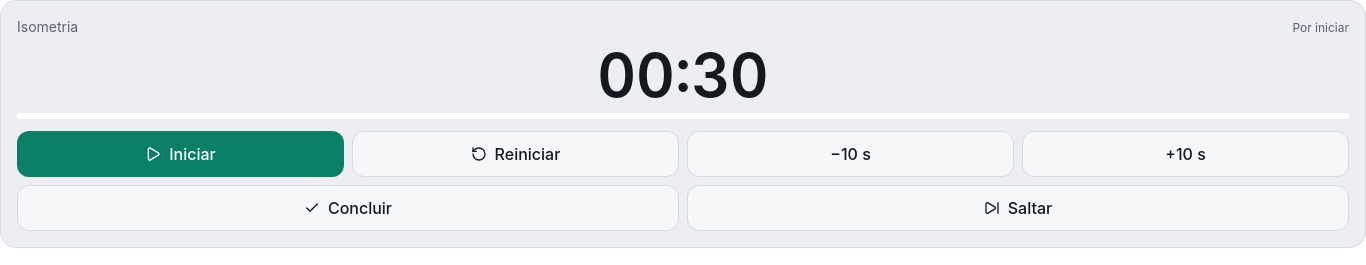
Scenario: componente de contagem decrescente › conta, pausa, retoma e termina uma única vez
Click the button "Iniciar": (180, 154) [17,131,344,177]
Wait 10000 ms
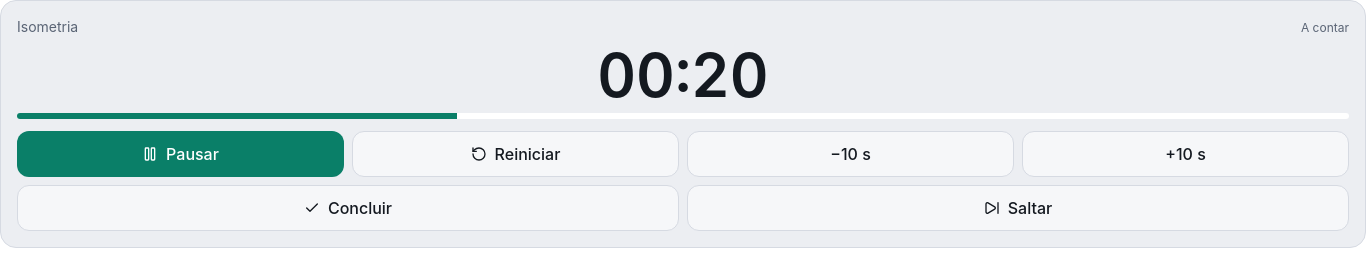
Click the button "Pausar": (180, 154) [17,131,344,177]
Wait 60000 ms
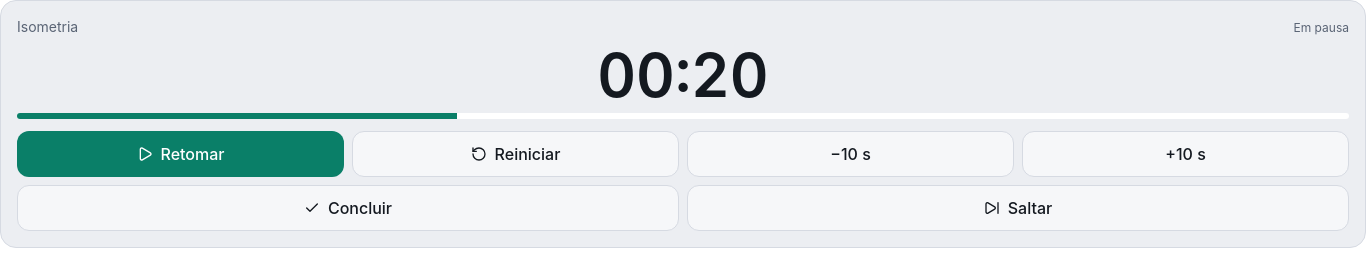
Click the button "Retomar": (180, 154) [17,131,344,177]
Wait 55000 ms
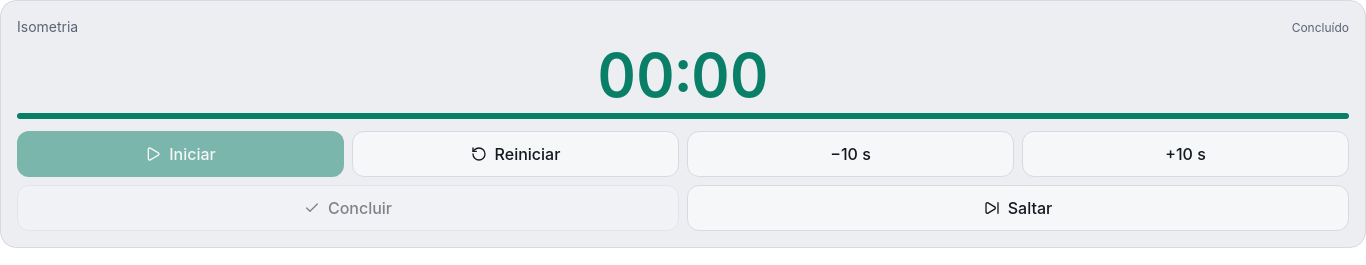
Now the message reads "Concluído", box [1292,20,1349,35]
